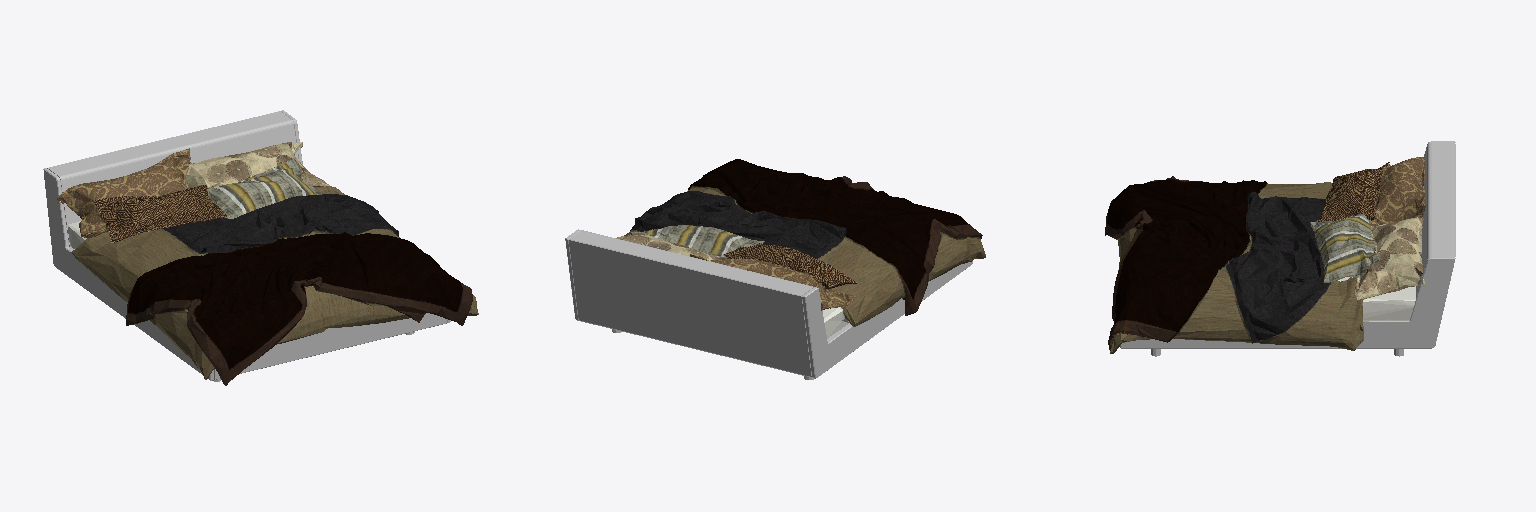
3 renders of one model, left to right at view 1: azimuth 30°, elevation 25°; view 2: azimuth 150°, elevation 25°; view 3: azimuth 270°, elevation 25°, orthographic.
Visible parts, largest first — view 1: Объект; view 2: Объект; view 3: Объект.
Boxes of the visible parts, x1=… form: Объект: x1=43, y1=110, x2=478, y2=385; Объект: x1=565, y1=159, x2=985, y2=379; Объект: x1=1105, y1=141, x2=1455, y2=356.
Bounding box in the file's own units: 5.49 × 2.01 × 5.96.
Materials: 3 (2 with a texture image).